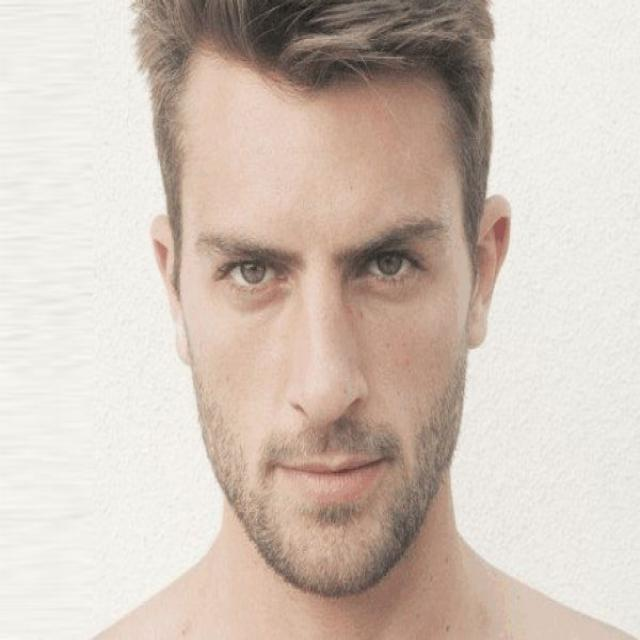beard: (196, 360, 465, 598)
